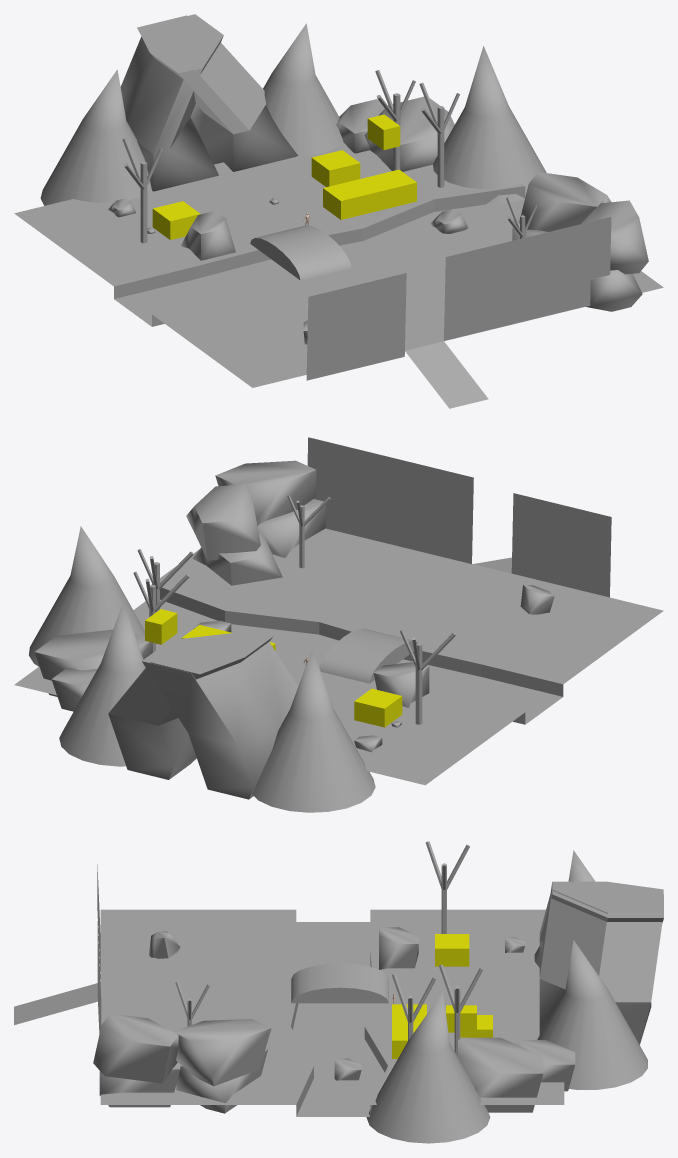
The model's file is block ludum.fbx.
3 views of the same model, one above another, from view 1: azimuth 30°, elevation 25°; view 2: azimuth 150°, elevation 25°; view 3: azimuth 270°, elevation 25° (orthographic). The views are drawn at different scales.
Parts seen in each view (by area): view 1: pCube26; view 2: pCube26; view 3: pCube26.
Boxes of the visible parts, <box> form: pCube26: <box>14,14,663,408</box>; pCube26: <box>14,437,663,812</box>; pCube26: <box>14,841,663,1143</box>.
Bounding box in the file's own units: 52.22 × 15.21 × 65.99.
